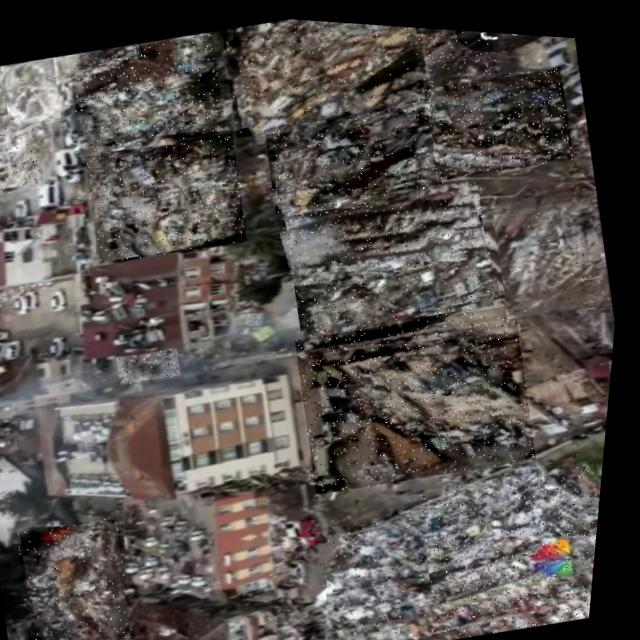Rubble: (290, 284, 554, 500), (275, 160, 513, 347), (415, 443, 611, 640), (214, 12, 437, 143), (80, 121, 258, 268), (260, 87, 450, 218), (62, 22, 235, 160), (419, 49, 582, 180), (315, 500, 465, 640), (17, 507, 160, 640), (489, 181, 623, 316), (0, 52, 71, 131), (412, 22, 501, 83), (0, 107, 50, 206), (120, 341, 189, 386)
